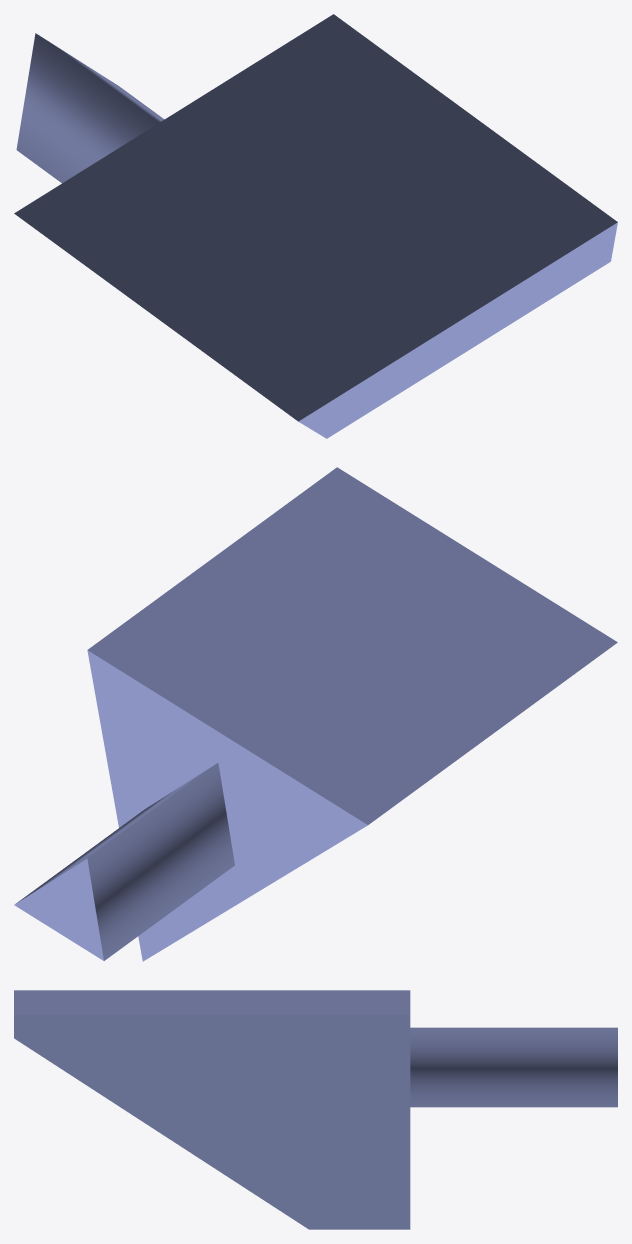
File: Copie de piece pour roue Ass 07^Copie de ass roue pour Ass 07_Copie de Assemblage 07_Horloge Comtoise Verge - Sonnerie.obj
3 views of the same model, one above another, from view 1: azimuth 30°, elevation 25°; view 2: azimuth 150°, elevation 25°; view 3: azimuth 270°, elevation 25° (orthographic). The views are drawn at different scales.
Visible parts, largest first — view 1: Face_1, Face_6, Face_4; view 2: Face_1, Face_2, Face_6, Face_8; view 3: Face_5, Face_6, Face_1.
Part boxes in pixels (x1,y1,x2,y2): Face_1: [14, 14, 617, 421]; Face_6: [16, 33, 164, 183]; Face_4: [298, 222, 617, 438]; Face_1: [88, 467, 617, 824]; Face_2: [87, 650, 367, 961]; Face_6: [16, 763, 234, 960]; Face_8: [14, 859, 103, 960]; Face_5: [14, 1014, 410, 1229]; Face_6: [410, 1027, 617, 1107]; Face_1: [14, 990, 410, 1014].
Bounding box in the file's own units: 0.00254 × 0.00258 × 0.00596.
